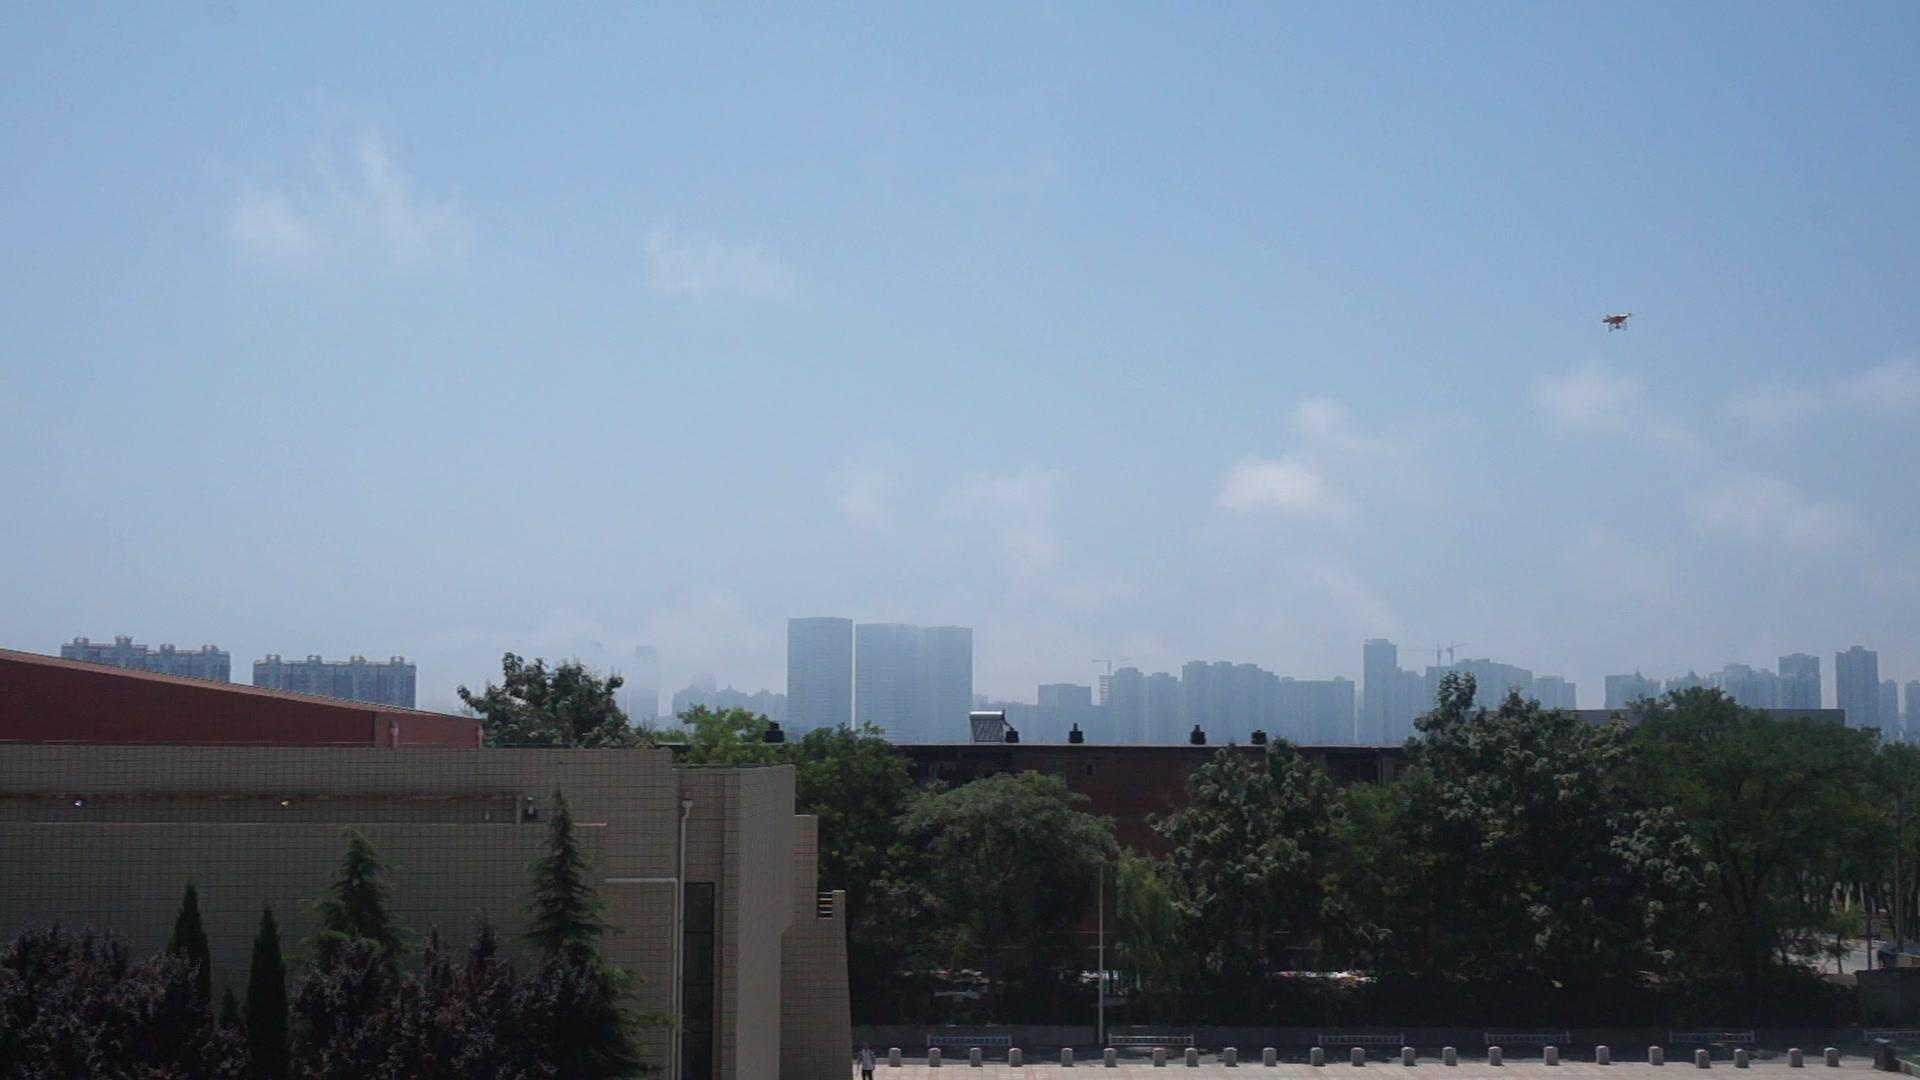UAV: (1601, 313, 1644, 334)
